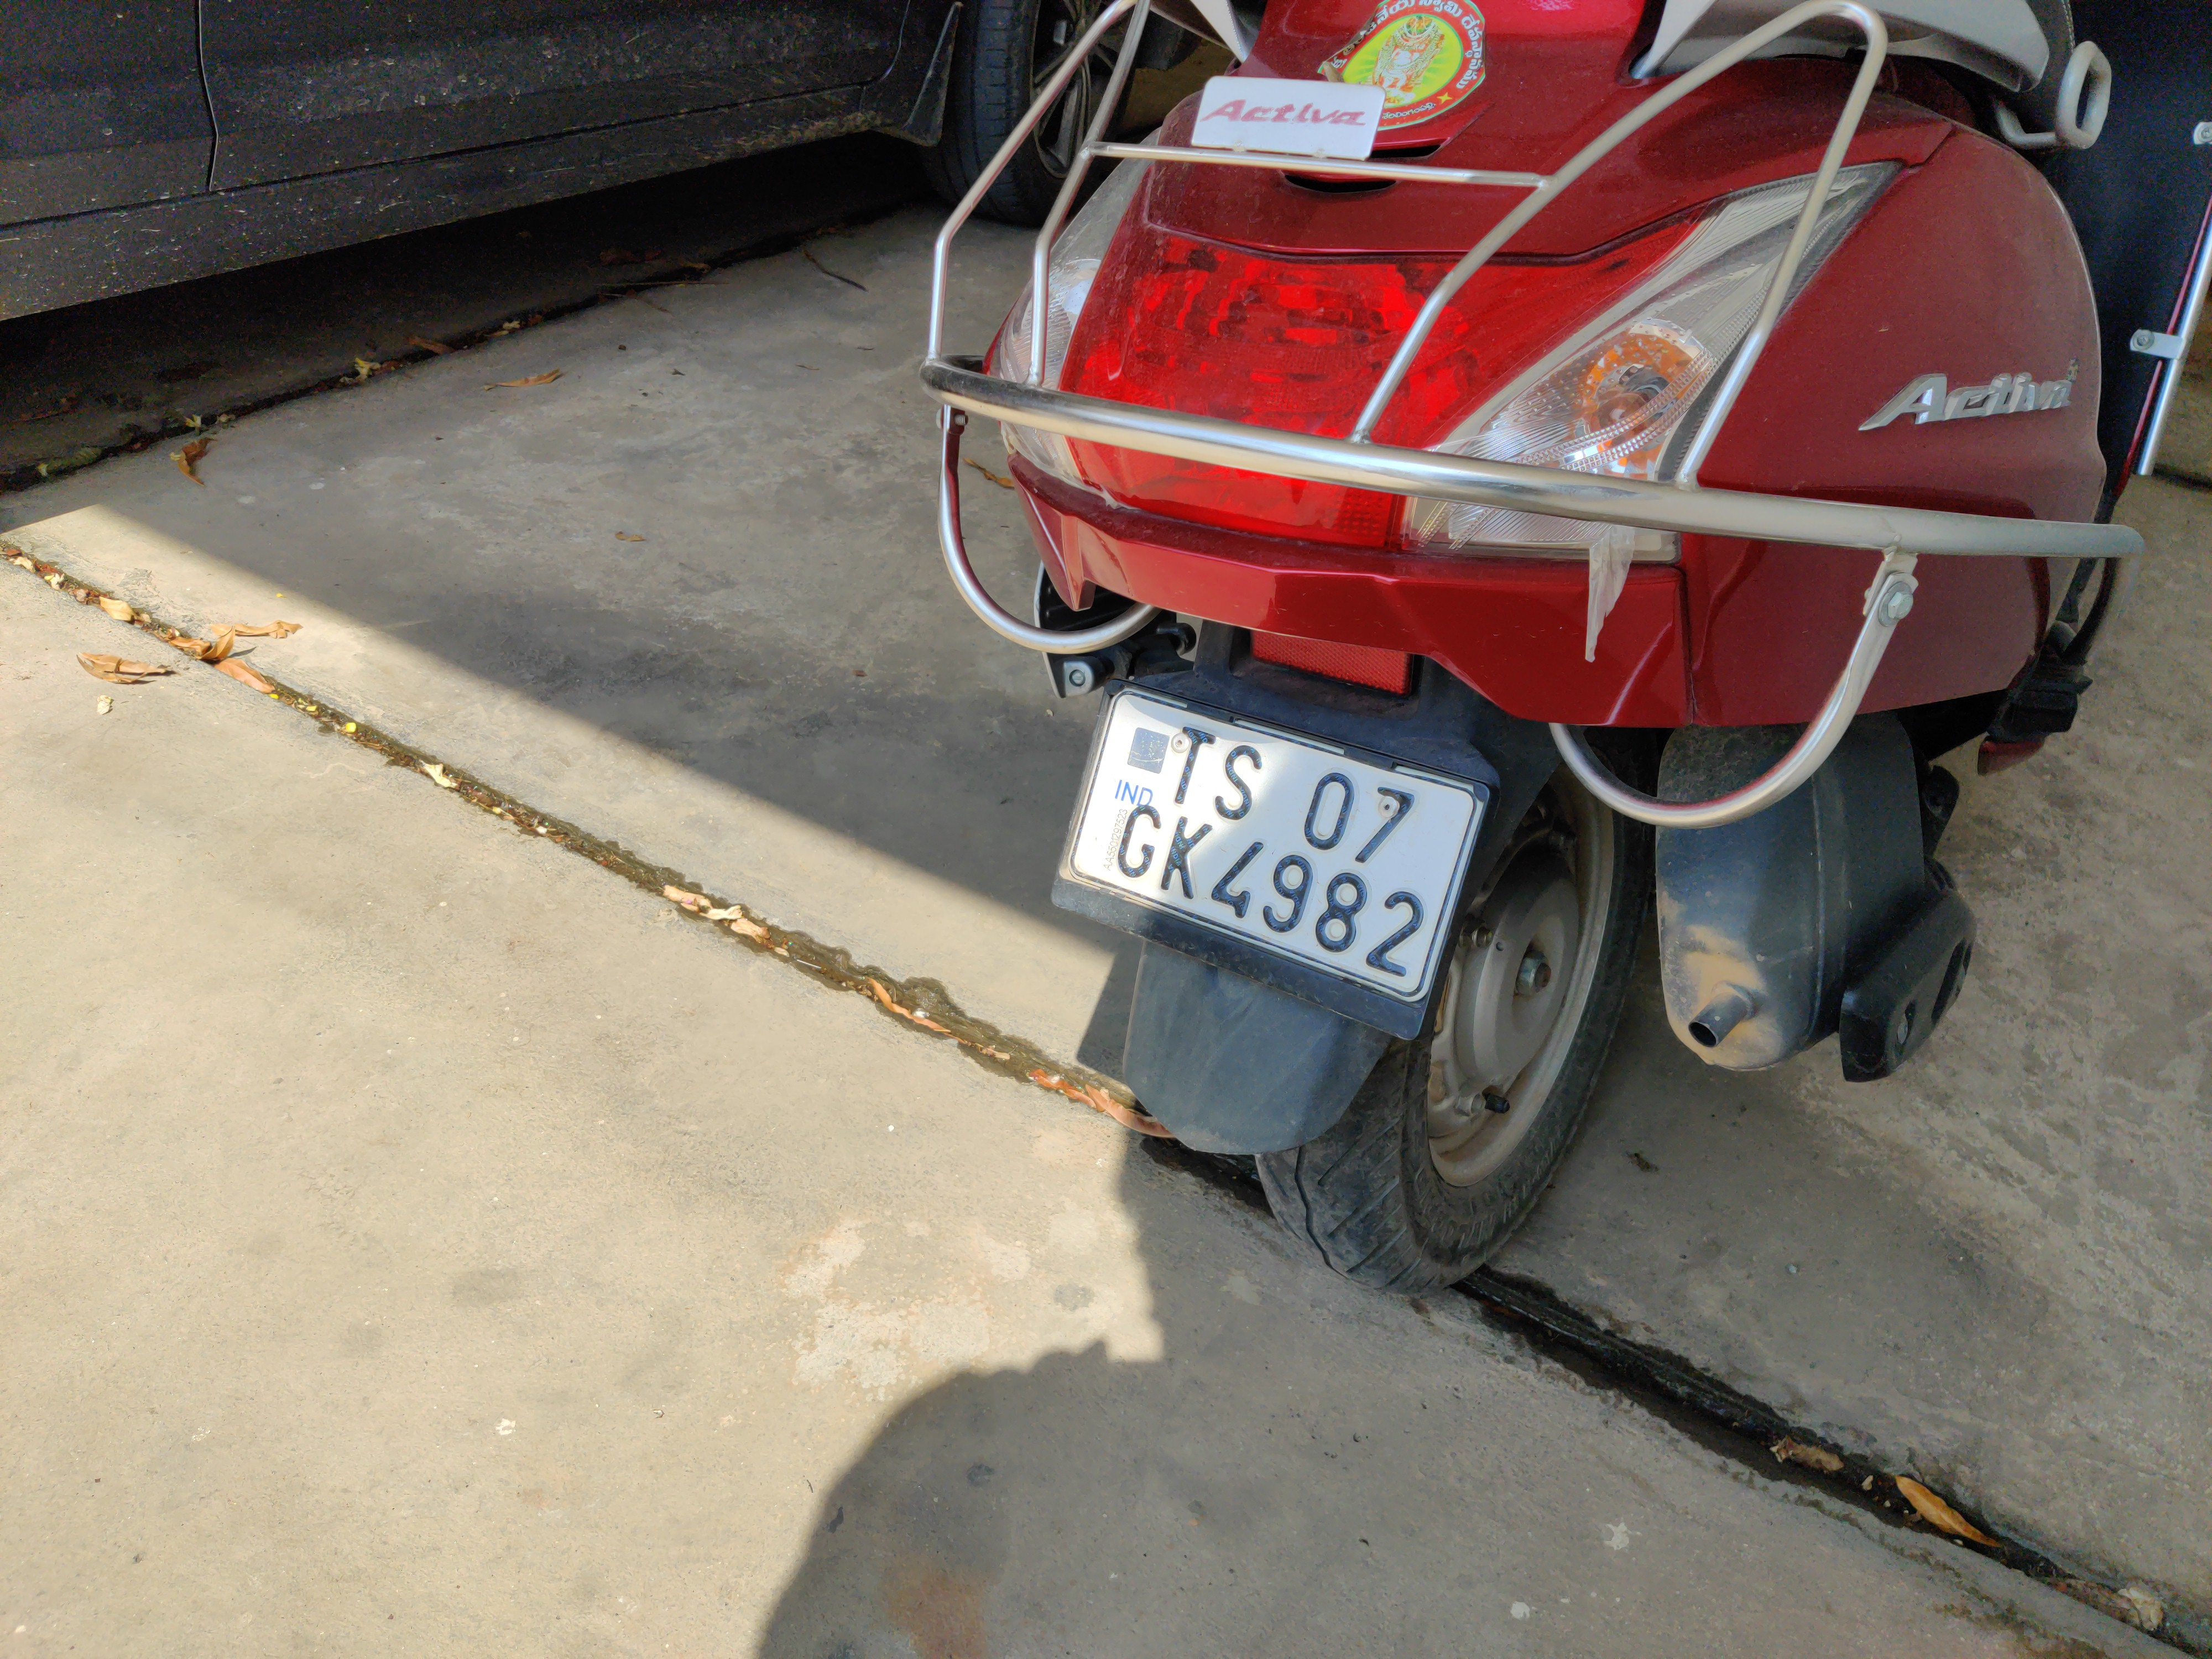plate: (1031, 633, 1606, 1053)
